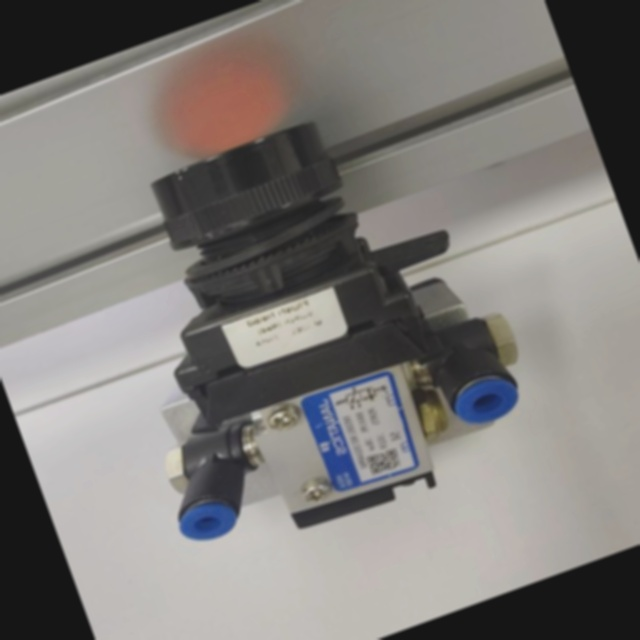push button: (62, 78, 554, 574)
